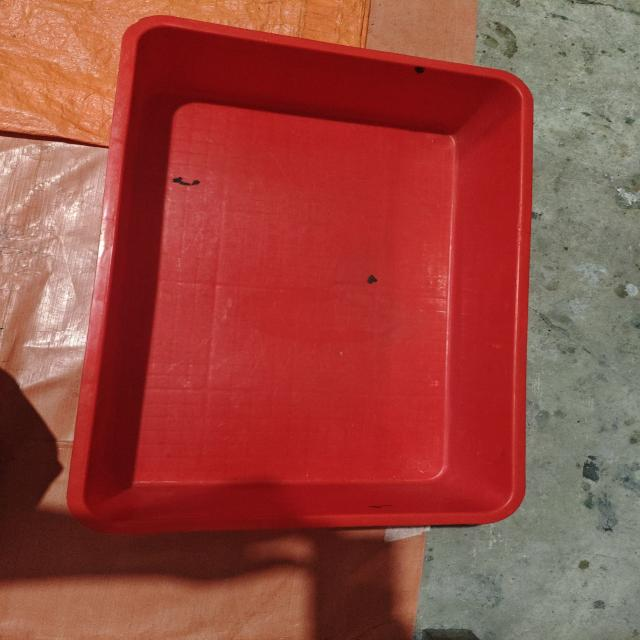red plastic box: (67, 15, 534, 535)
